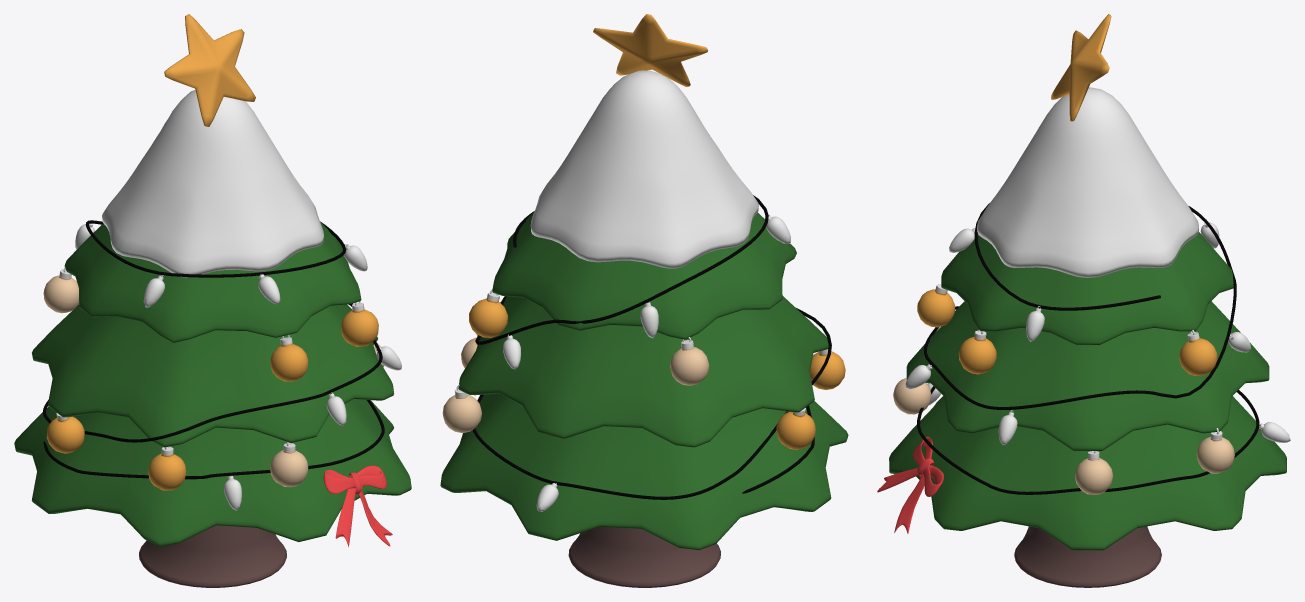
The model's file is Christmas Tree.fbx.
The picture shows the model from 3 angles, left to right: view 1: azimuth 30°, elevation 25°; view 2: azimuth 150°, elevation 25°; view 3: azimuth 270°, elevation 25°; orthographic projection. The views are drawn at different scales.
Visible parts, largest first — view 1: Cube.007, Cube.009, Cube.010, Cube.008, Cylinder.002, Circle, BezierCurve, Plane.002, Cube.011, Cube.012, Cube.013, Cube.014 (+2 smaller); view 2: Cube.009, Cube.007, Cube.010, Cube.008, Cylinder.002, Circle, BezierCurve, Cube.017, Cube.016, Cube.015, Cube.028, Cube.013; view 3: Cube.009, Cube.007, Cube.010, Cube.008, Cylinder.002, BezierCurve, Circle, Plane.002, Cube.016, Cube.026, Cube.011, Cube.012 (+2 smaller).
Part boxes in pixels (x1=…): Cube.007: x1=32, y1=304, x2=394, y2=447; Cube.009: x1=14, y1=399, x2=411, y2=546; Cube.010: x1=102, y1=90, x2=323, y2=277; Cube.008: x1=64, y1=222, x2=361, y2=342; Cylinder.002: x1=139, y1=525, x2=286, y2=587; Circle: x1=164, y1=14, x2=255, y2=126; BezierCurve: x1=43, y1=220, x2=384, y2=479; Plane.002: x1=323, y1=465, x2=392, y2=546; Cube.011: x1=270, y1=343, x2=308, y2=381; Cube.012: x1=341, y1=309, x2=378, y2=346; Cube.013: x1=148, y1=453, x2=186, y2=490; Cube.014: x1=270, y1=450, x2=308, y2=487; Cube.009: x1=440, y1=393, x2=848, y2=550; Cube.007: x1=458, y1=296, x2=828, y2=447; Cube.010: x1=530, y1=70, x2=758, y2=268; Cube.008: x1=492, y1=211, x2=796, y2=339; Cylinder.002: x1=568, y1=527, x2=720, y2=587; Circle: x1=593, y1=14, x2=707, y2=87; BezierCurve: x1=472, y1=195, x2=831, y2=499; Cube.017: x1=670, y1=346, x2=709, y2=385; Cube.016: x1=469, y1=298, x2=507, y2=337; Cube.015: x1=442, y1=394, x2=481, y2=432; Cube.028: x1=776, y1=412, x2=815, y2=449; Cube.013: x1=810, y1=351, x2=845, y2=389; Cube.009: x1=889, y1=396, x2=1286, y2=550; Cube.007: x1=906, y1=301, x2=1269, y2=450; Cube.010: x1=977, y1=87, x2=1198, y2=277; Cube.008: x1=941, y1=232, x2=1233, y2=344; Cylinder.002: x1=1014, y1=526, x2=1161, y2=587; BezierCurve: x1=917, y1=203, x2=1259, y2=494; Circle: x1=1051, y1=14, x2=1111, y2=121; Plane.002: x1=877, y1=436, x2=943, y2=533; Cube.016: x1=1179, y1=338, x2=1217, y2=375; Cube.026: x1=1075, y1=458, x2=1113, y2=494; Cube.011: x1=917, y1=289, x2=955, y2=327; Cube.012: x1=958, y1=336, x2=996, y2=374.
Size of the model in its own units: 249 by 370 by 259.
